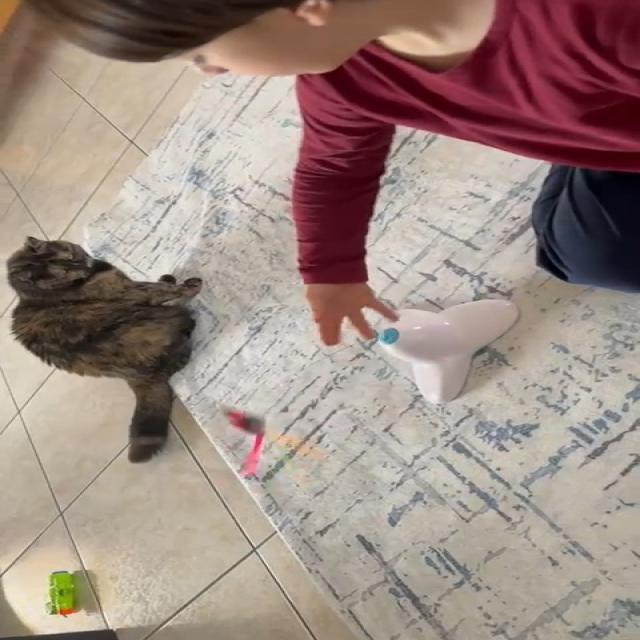authorized: (4, 236, 203, 464)
